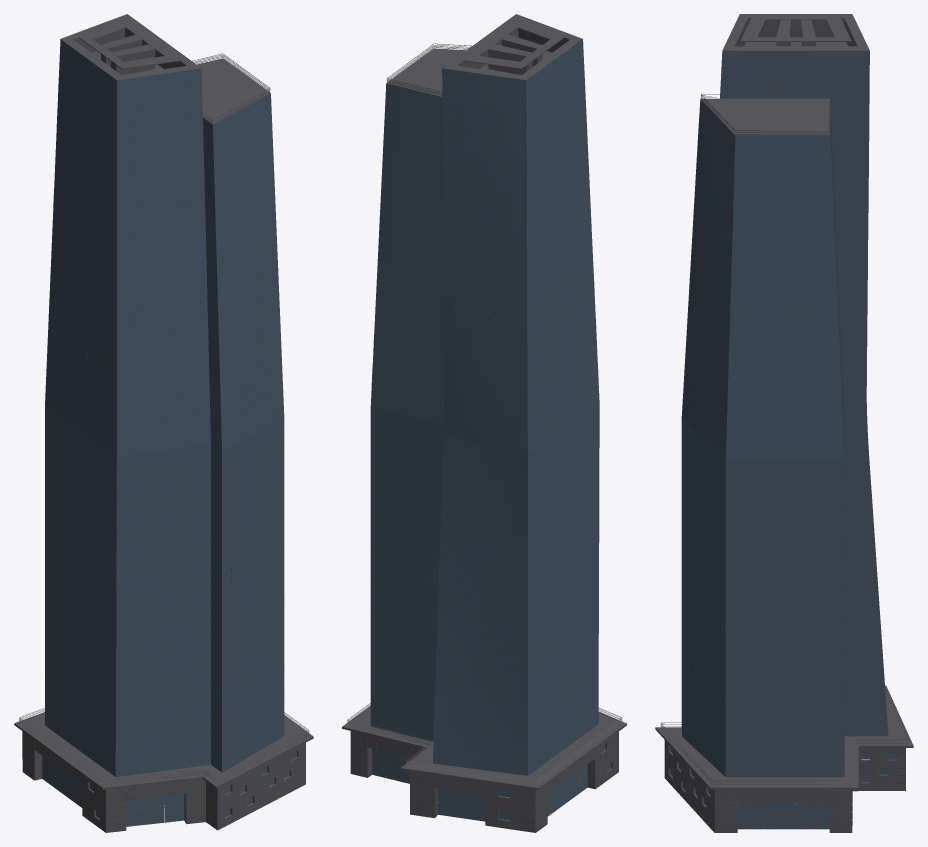
The model's file is skyscraper07-optimized.glb.
3 renders of one model, left to right at view 1: azimuth 30°, elevation 25°; view 2: azimuth 150°, elevation 25°; view 3: azimuth 270°, elevation 25°, orthographic.
Parts seen in each view (by area): view 1: 01_Skyscraper07; view 2: 01_Skyscraper07; view 3: 01_Skyscraper07.
Boxes of the visible parts, left/top/right/bottom form: 01_Skyscraper07: left=14, top=14, right=313, bottom=832; 01_Skyscraper07: left=342, top=14, right=626, bottom=832; 01_Skyscraper07: left=655, top=14, right=913, bottom=832.
Bounding box in the file's own units: 55 × 185 × 58.75.
